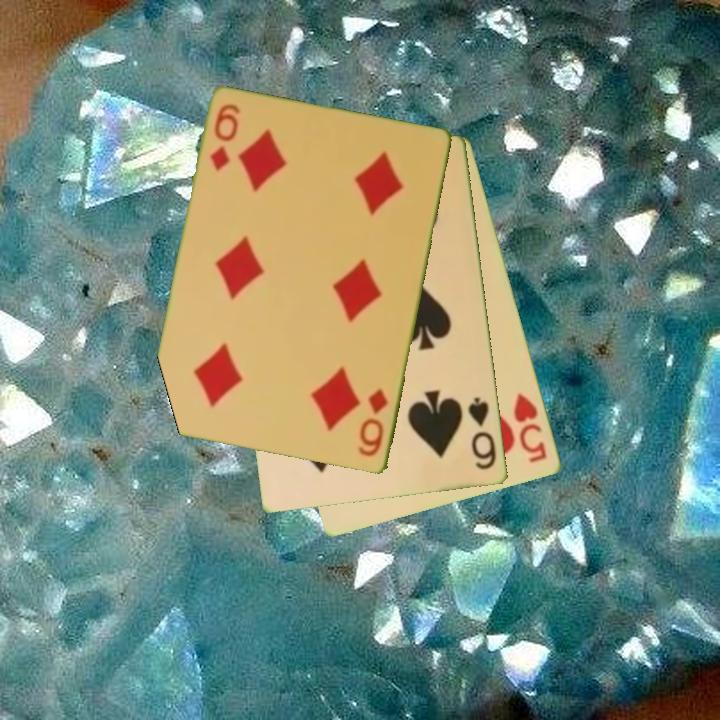5h: (510, 390, 550, 466)
6d: (206, 101, 243, 175), (355, 386, 391, 460)
6s: (465, 394, 500, 473)
